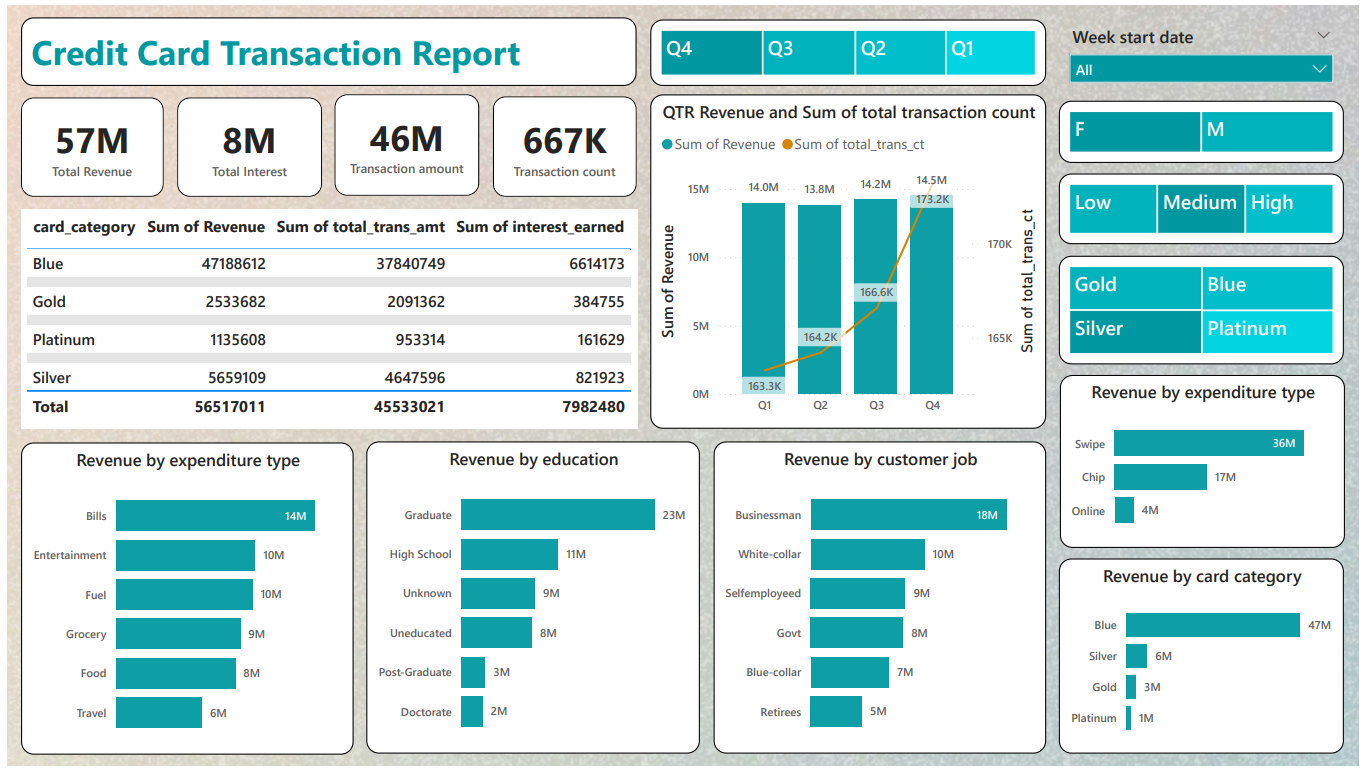

The page's visual inventory and layout, read from the dashboard file:
{"tool":"powerbi","page":{"name":"CC Transaction","canvas":[1280,720],"ordinal":0},"visuals":[{"type":"textbox","box":[12.9,11.4,582.9,64.3],"z":0},{"type":"lineStackedColumnComboChart","title":"QTR Revenue and Sum of total transaction count","fields":{"Category":["public cc_detail.qtr"],"Y":["Sum(public cc_detail.Revenue)"],"Y2":["Sum(public cc_detail.total_trans_ct)"]},"box":[608.6,84.3,375.7,317.1],"z":1000},{"type":"barChart","title":"Revenue by expenditure type","fields":{"Category":["public cc_detail.exp_type"],"Y":["Sum(public cc_detail.Revenue)"]},"box":[12.9,414.3,315,295.7],"z":2000},{"type":"barChart","title":"Revenue by education","fields":{"Category":["public cust_detail.education_level"],"Y":["Sum(public cc_detail.Revenue)"]},"box":[340.4,412.9,315.7,295.7],"z":3000},{"type":"barChart","title":"Revenue by customer job","fields":{"Category":["public cust_detail.customer_job"],"Y":["Sum(public cc_detail.Revenue)"]},"box":[668.6,412.9,315.7,295.7],"z":4000},{"type":"barChart","title":"Revenue by card category","fields":{"Category":["public cc_detail.card_category"],"Y":["Sum(public cc_detail.Revenue)"]},"box":[995.7,524.3,270,184.3],"z":5000},{"type":"barChart","title":"Revenue by expenditure type","fields":{"Category":["public cc_detail.use_chip"],"Y":["Sum(public cc_detail.Revenue)"]},"box":[997.1,350,270,164.3],"z":6000},{"type":"tableEx","fields":{"Values":["public cc_detail.card_category","Sum(public cc_detail.Revenue)","Sum(public cc_detail.total_trans_amt)","Sum(public cc_detail.interest_earned)"]},"box":[12.9,192.9,584.3,208.6],"z":7000},{"type":"cardVisual","title":"Total Amount","fields":{"Data":["Sum(public cc_detail.total_trans_amt)"]},"box":[310.5,84.5,136.3,95.3],"z":8000},{"type":"cardVisual","title":"Total Interest","fields":{"Data":["Sum(public cc_detail.interest_earned)"]},"box":[161.3,86.9,136.3,94.1],"z":9000},{"type":"cardVisual","title":"Counts","fields":{"Data":["Sum(public cc_detail.total_trans_ct)"]},"box":[459.7,85.7,136.3,95.3],"z":10000},{"type":"slicer","fields":{"Values":["public cc_detail.week_start_date"]},"box":[995.7,12.9,270,77.1],"z":11000},{"type":"treemap","fields":{"Group":["public cc_detail.qtr"],"Values":["Avg(public cust_detail.client_num)"]},"box":[608.6,12.9,375.7,62.9],"z":12000},{"type":"treemap","fields":{"Group":["public cust_detail.gender"],"Values":["Avg(public cust_detail.client_num)"]},"box":[995.7,90,270,58.6],"z":13000},{"type":"treemap","fields":{"Group":["public cust_detail.IncomeGroup"],"Values":["Avg(public cust_detail.client_num)"]},"box":[995.7,158.6,270,67.1],"z":14000},{"type":"treemap","fields":{"Group":["public cc_detail.card_category"],"Values":["Avg(public cust_detail.client_num)"]},"box":[995.7,237.1,270,102.9],"z":15000},{"type":"cardVisual","title":"Total Interest","fields":{"Data":["Sum(public cc_detail.Revenue)"]},"box":[13.3,86.9,135.1,94.1],"z":16000}]}

Visuals, with their boxes in screenshot pixels (x1, y1, x2, y2), scaled from the page's 1280x720 canvas onto the 1367x772 screenshot:
textbox: bbox=(14, 12, 636, 81)
"QTR Revenue and Sum of total transaction count" lineStackedColumnComboChart: bbox=(650, 90, 1051, 430)
"Revenue by expenditure type" barChart: bbox=(14, 444, 350, 761)
"Revenue by education" barChart: bbox=(364, 443, 701, 760)
"Revenue by customer job" barChart: bbox=(714, 443, 1051, 760)
"Revenue by card category" barChart: bbox=(1063, 562, 1352, 760)
"Revenue by expenditure type" barChart: bbox=(1065, 375, 1353, 551)
tableEx - public cc_detail.card_category x Sum(public cc_detail.Revenue): bbox=(14, 207, 638, 430)
"Total Amount" cardVisual: bbox=(332, 91, 477, 193)
"Total Interest" cardVisual: bbox=(172, 93, 318, 194)
"Counts" cardVisual: bbox=(491, 92, 637, 194)
slicer - public cc_detail.week_start_date: bbox=(1063, 14, 1352, 96)
treemap - public cc_detail.qtr x Avg(public cust_detail.client_num): bbox=(650, 14, 1051, 81)
treemap - public cust_detail.gender x Avg(public cust_detail.client_num): bbox=(1063, 96, 1352, 159)
treemap - public cust_detail.IncomeGroup x Avg(public cust_detail.client_num): bbox=(1063, 170, 1352, 242)
treemap - public cc_detail.card_category x Avg(public cust_detail.client_num): bbox=(1063, 254, 1352, 365)
"Total Interest" cardVisual: bbox=(14, 93, 158, 194)
